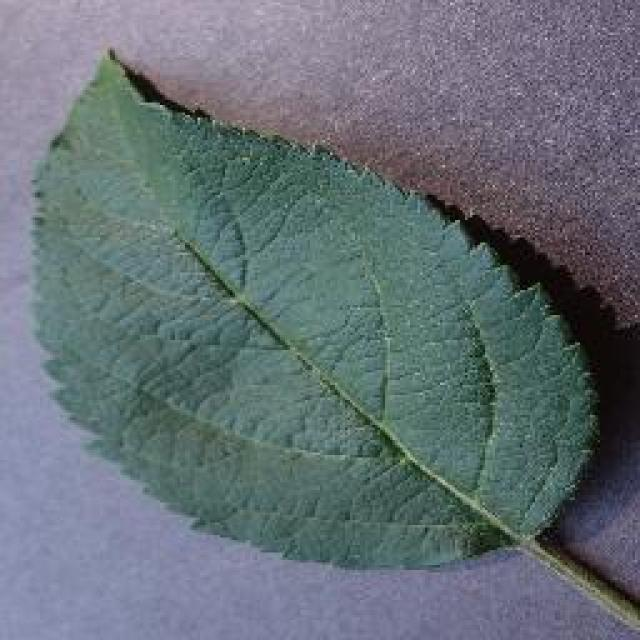apple healthy: (25, 45, 605, 573)
